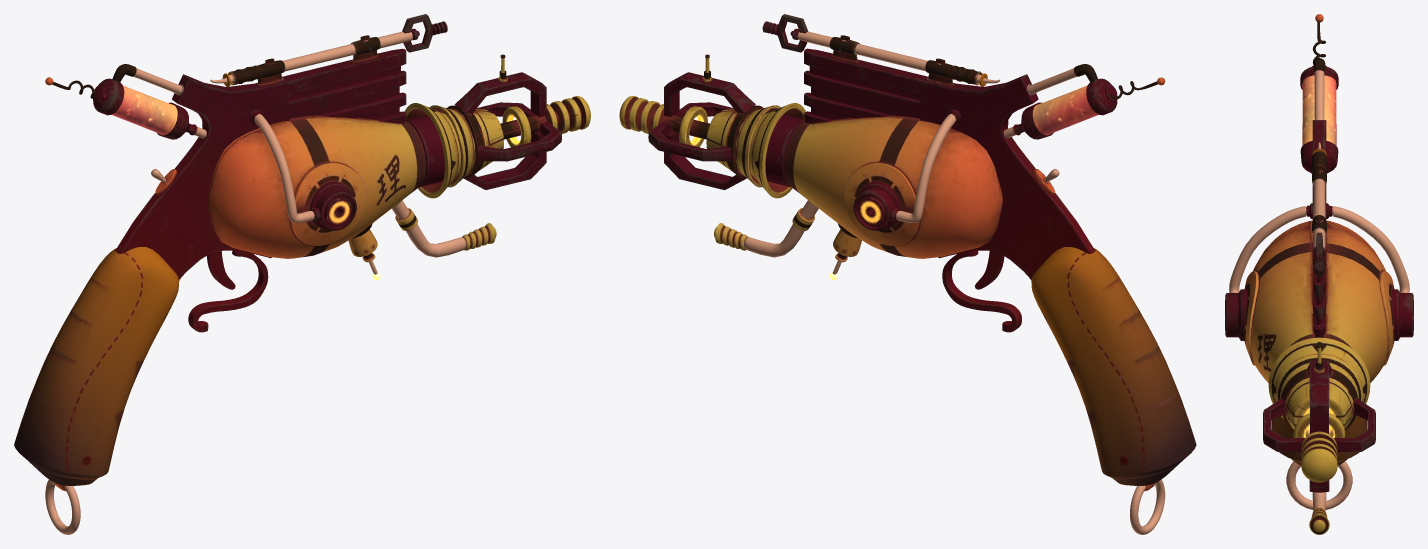
The model's file is retro_ray-gun.glb.
3 views of the same model, side by side, from view 1: azimuth 30°, elevation 25°; view 2: azimuth 150°, elevation 25°; view 3: azimuth 270°, elevation 25° (orthographic). The views are drawn at different scales.
Parts seen in each view (by area): view 1: defaultMaterial (×16); view 2: defaultMaterial (×16); view 3: defaultMaterial (×15).
Boxes of the visible parts, bbox=[...] form: defaultMaterial (×16): bbox=[14, 14, 590, 534]; defaultMaterial (×16): bbox=[619, 14, 1196, 534]; defaultMaterial (×15): bbox=[1225, 14, 1413, 534].
Size of the model in its own units: 0.5204 by 0.4033 by 0.1411.
1 material, 1 textured.
